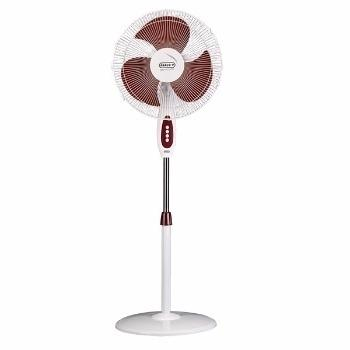fan: (108, 4, 221, 350)
